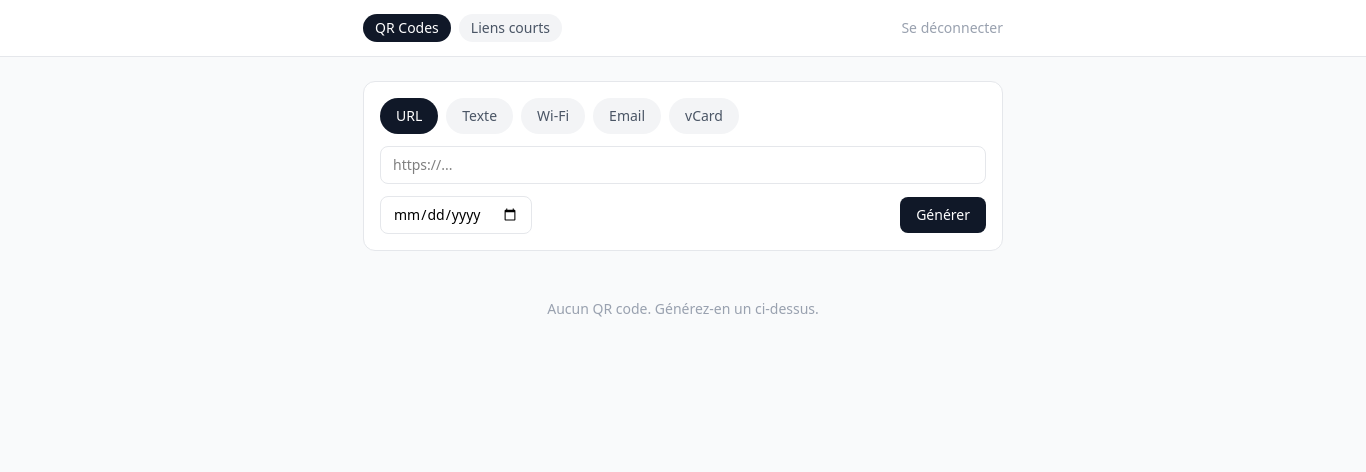
Scenario: CreateForm › should render name, phone, email, org inputs when vCard is selected
Click the button "vCard": (704, 116) [669, 98, 739, 134]
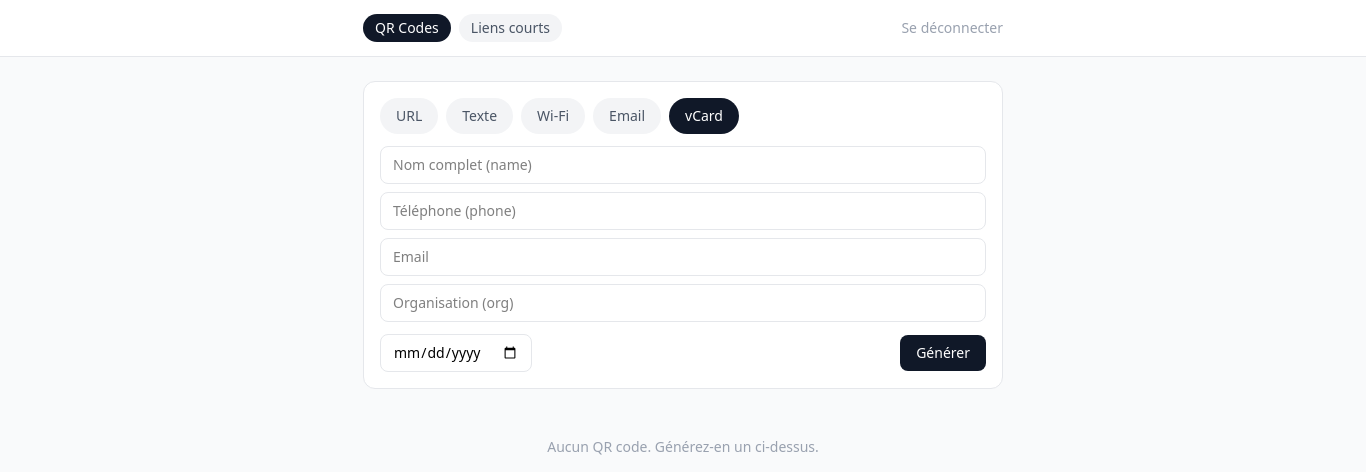
Now the field with placeholder "Nom complet (name)" is shown, box [380, 146, 986, 184]
Now the field with placeholder "Téléphone (phone)" is shown, box [380, 192, 986, 230]
Now the field with placeholder "Email" is shown, box [380, 238, 986, 276]
